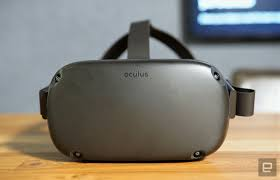oculus: (41, 57, 249, 165)
